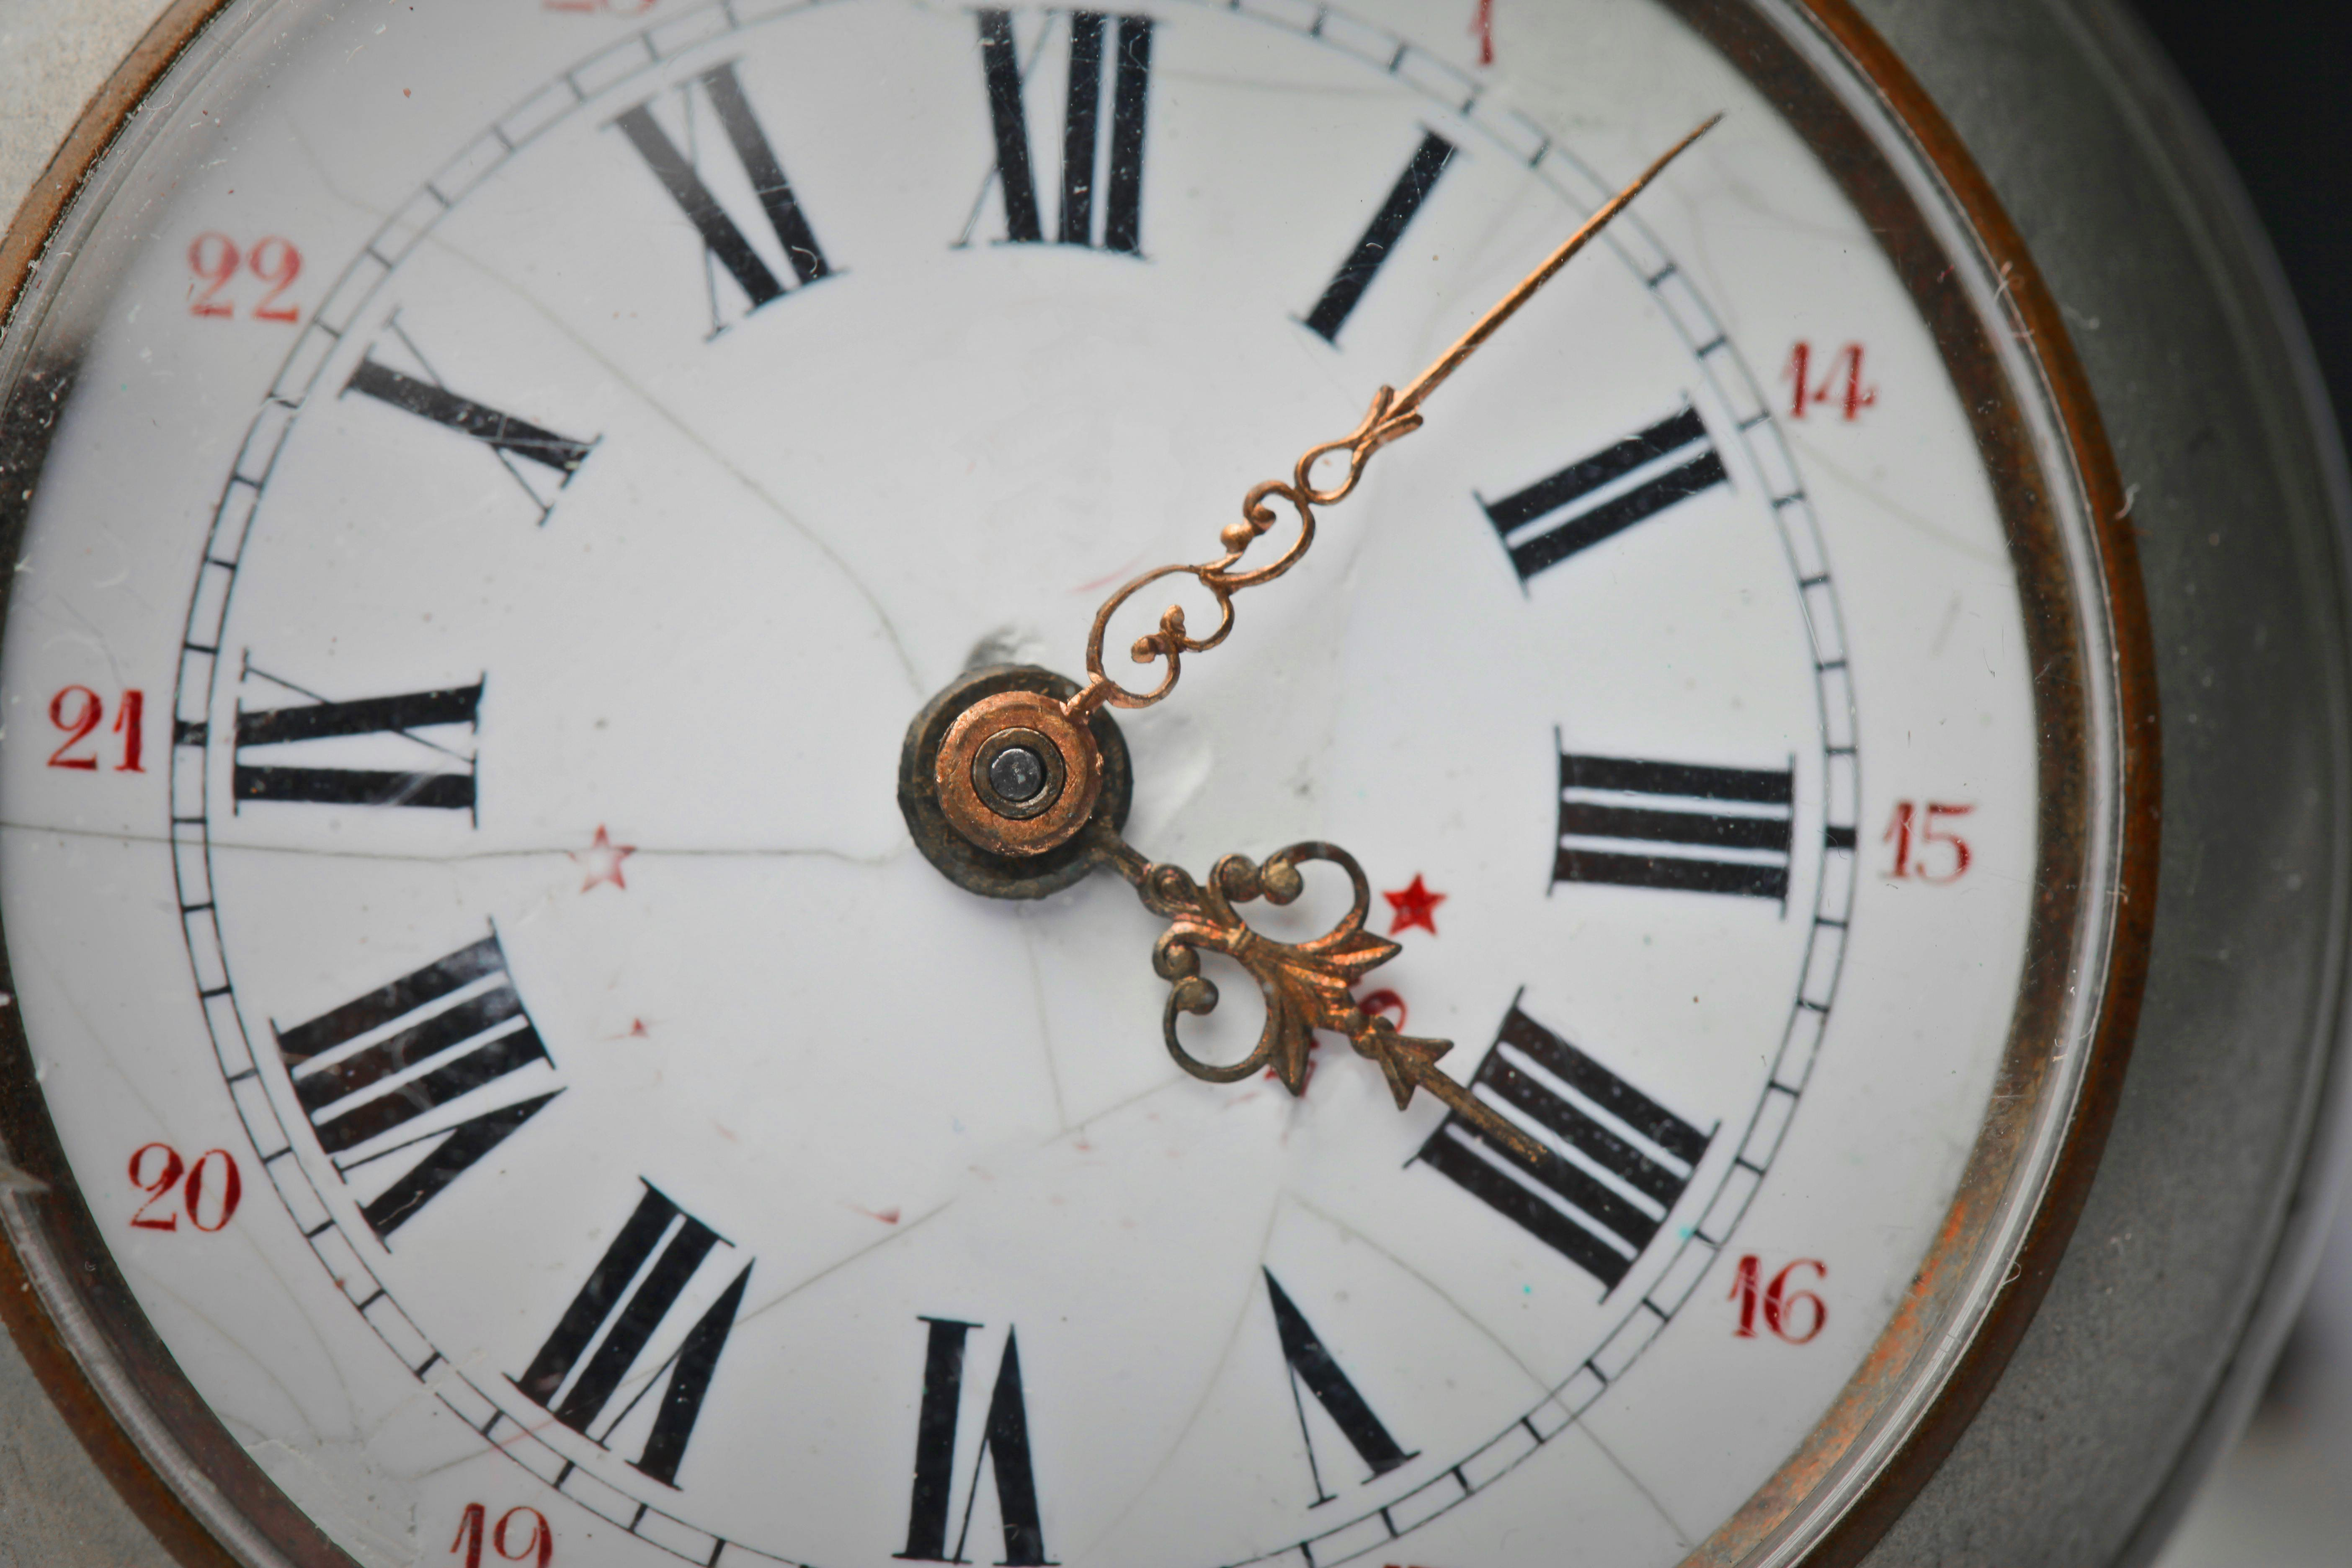clock: (38, 12, 2352, 1559)
